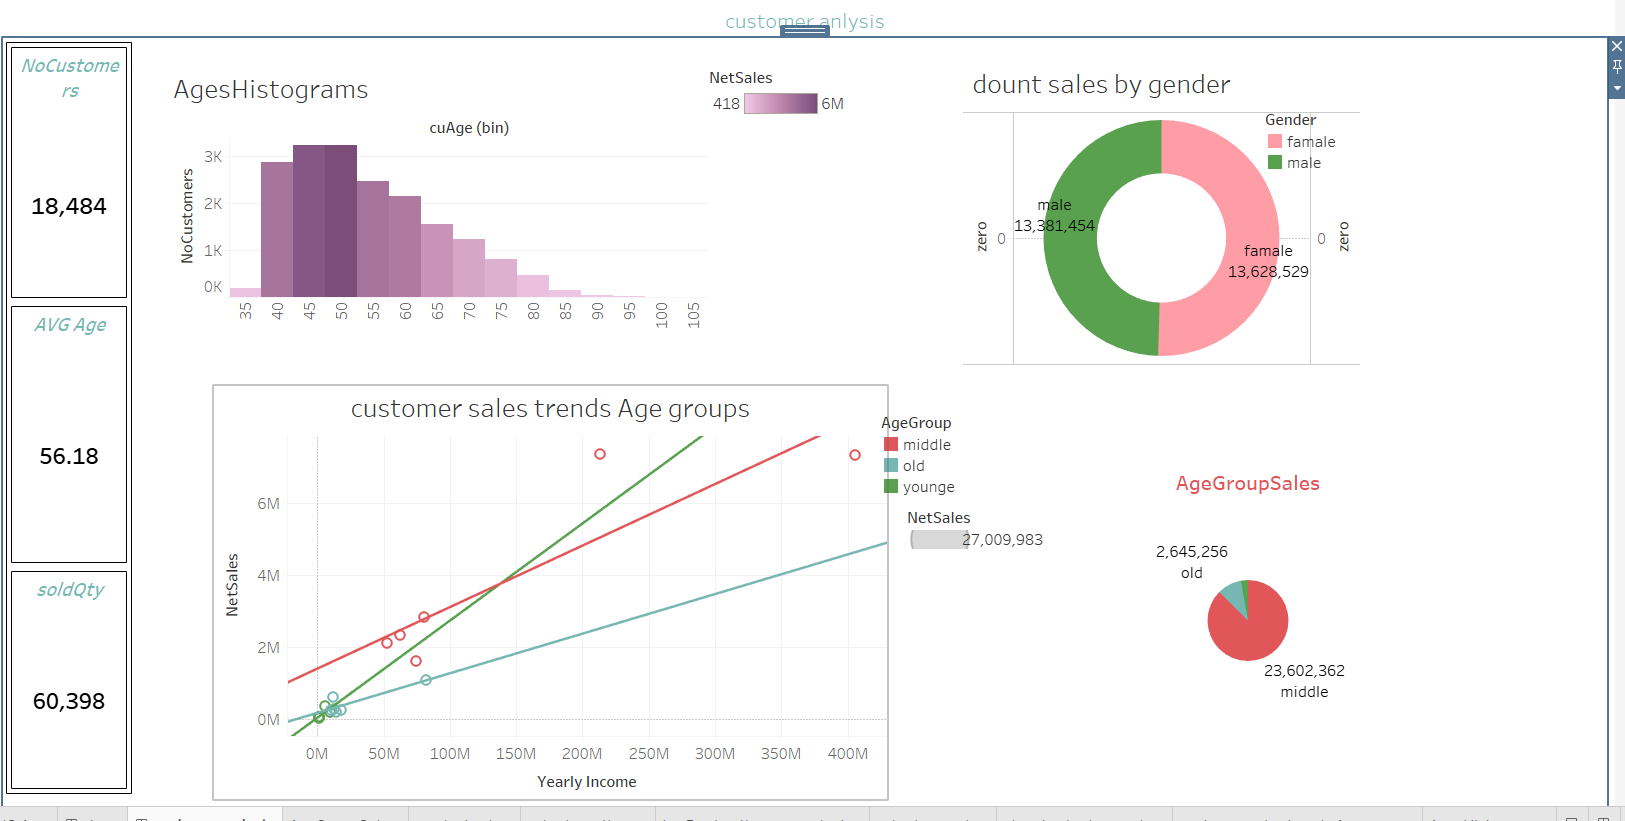

This screenshot's page, from the dashboard's own definition file:
{"tool":"tableau","page":{"name":"customer anlysis","canvas":[1620,860],"ordinal":0},"visuals":[{"type":"title","box":[8,8,1604,36]},{"type":"worksheet","title":"NoCustomers","mark":"Automatic","box":[12,49,124,259]},{"type":"worksheet","title":" dount sales by gender","mark":"Pie","rows":["Calculation_256986707320889344","Calculation_256986707320889344"],"box":[968,68,398,303]},{"type":"worksheet","title":"AgesHistograms","mark":"Automatic","rows":["Calculation_874261331135062016"],"cols":["cuAge (bin)"],"box":[174,73,540,270]},{"type":"legend","title":"AgesHistograms","param":"[federated.17nahxy1bm8uze1935uru0muv8xb].[sum:Calculation_874261331136483329:qk]","box":[714,73,140,88]},{"type":"legend","title":" dount sales by gender","param":"[federated.17nahxy1bm8uze1935uru0muv8xb].[none:Gender:nk]","box":[1270,115,140,64]},{"type":"worksheet","title":"AVG Age","mark":"Automatic","box":[12,308,124,265]},{"type":"worksheet","title":"customer sales trends Age groups","mark":"Automatic","rows":["Calculation_874261331136483329"],"cols":["YearlyIncome"],"box":[219,392,673,413]},{"type":"legend","title":"customer sales trends Age groups","param":"[federated.17nahxy1bm8uze1935uru0muv8xb].[none:Calculation_874261331147603974:nk","box":[886,418,140,85]},{"type":"worksheet","title":"AgeGroupSales","mark":"Pie","box":[983,470,540,270]},{"type":"legend","title":"AgeGroupSales","param":"[federated.17nahxy1bm8uze1935uru0muv8xb].[sum:Calculation_874261331136483329:qk]","box":[912,513,140,43]},{"type":"worksheet","title":"soldQty","mark":"Automatic","box":[12,573,124,226]}]}

Visuals, with their boxes on the page's 1620x860 design canvas (x1, y1, x2, y2). These are canvas units, not pixel positions in the 1625x821 screenshot, which may show the page scaled, cropped or inside an application window:
title: pyautogui.locateOnScreen(8, 8, 1612, 44)
"NoCustomers" worksheet: pyautogui.locateOnScreen(12, 49, 136, 308)
" dount sales by gender" worksheet (Pie marks): pyautogui.locateOnScreen(968, 68, 1366, 371)
"AgesHistograms" worksheet: pyautogui.locateOnScreen(174, 73, 714, 343)
"AgesHistograms" legend: pyautogui.locateOnScreen(714, 73, 854, 161)
" dount sales by gender" legend: pyautogui.locateOnScreen(1270, 115, 1410, 179)
"AVG Age" worksheet: pyautogui.locateOnScreen(12, 308, 136, 573)
"customer sales trends Age groups" worksheet: pyautogui.locateOnScreen(219, 392, 892, 805)
"customer sales trends Age groups" legend: pyautogui.locateOnScreen(886, 418, 1026, 503)
"AgeGroupSales" worksheet (Pie marks): pyautogui.locateOnScreen(983, 470, 1523, 740)
"AgeGroupSales" legend: pyautogui.locateOnScreen(912, 513, 1052, 556)
"soldQty" worksheet: pyautogui.locateOnScreen(12, 573, 136, 799)
